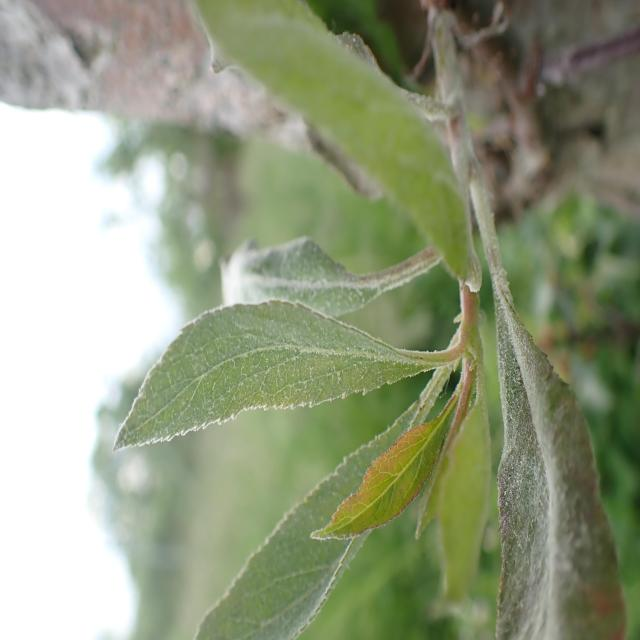Powdery_mildew: (0, 0, 398, 213), (94, 296, 432, 479), (477, 225, 621, 640), (199, 198, 450, 325)
